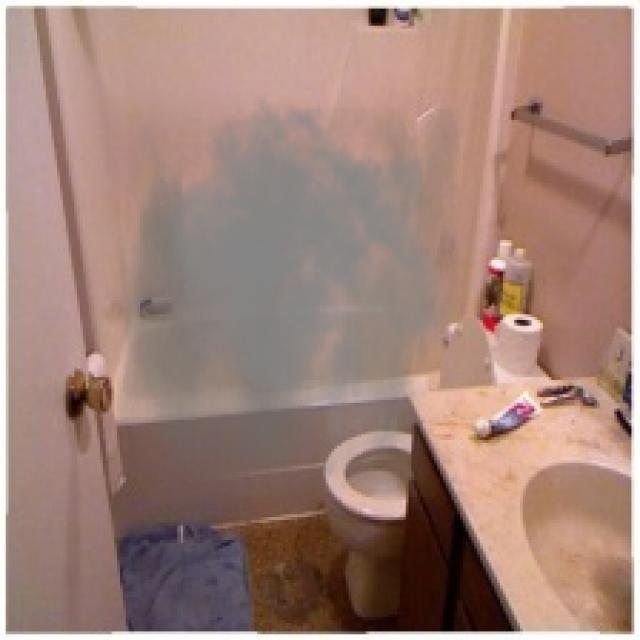smoke: (114, 94, 460, 497)
